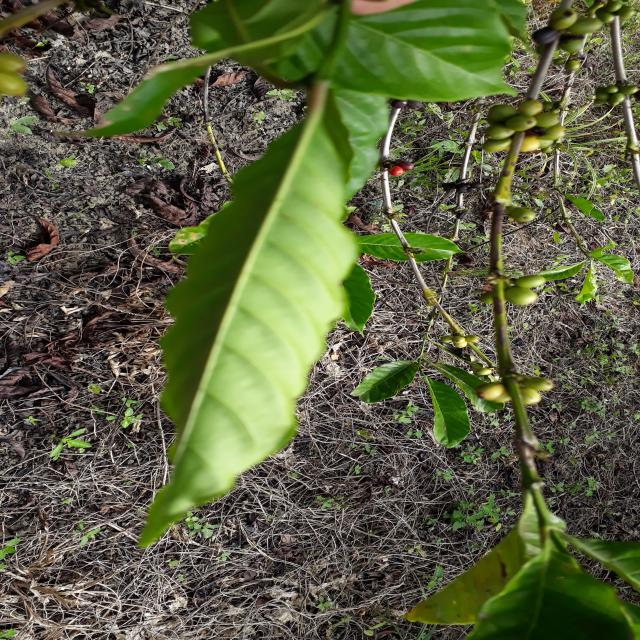Sanas: (135, 86, 391, 551)
